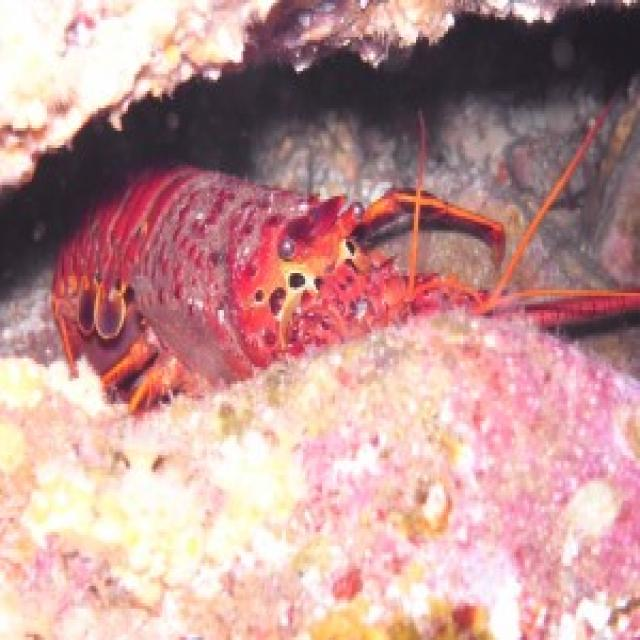lobsters: (28, 140, 636, 476)
